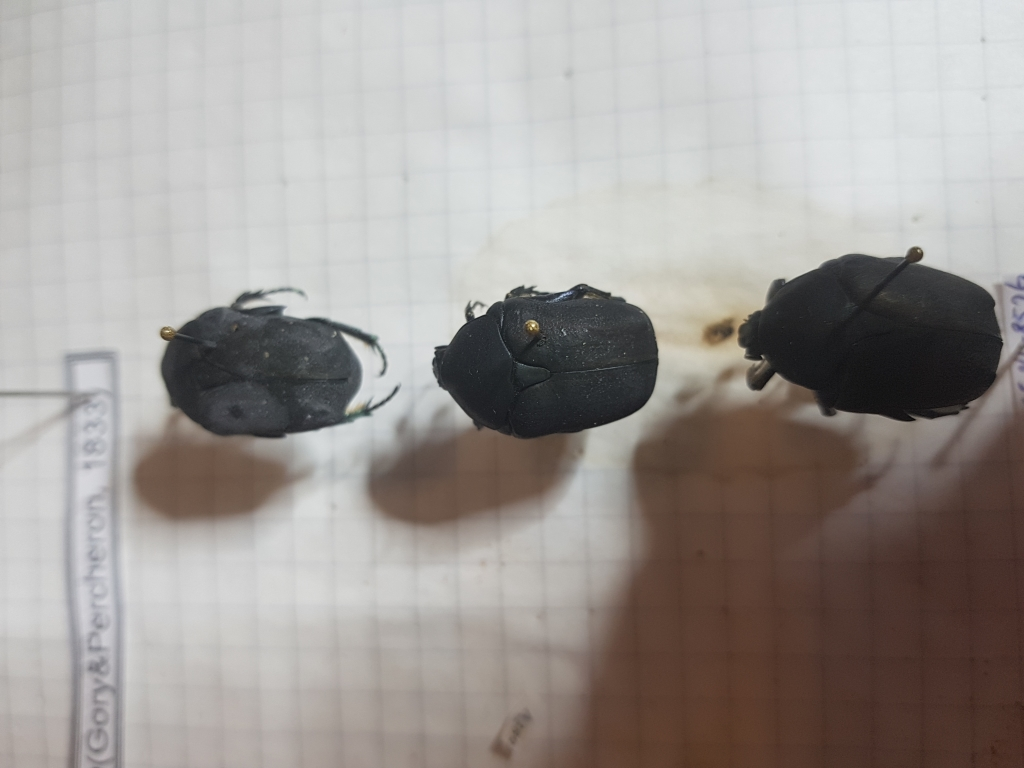Protaetia_afflicta: (725, 224, 1006, 427), (436, 276, 667, 447), (154, 278, 407, 431)
